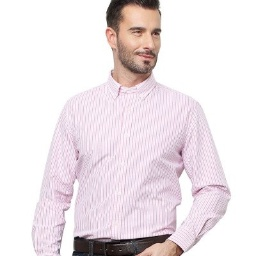face: (103, 1, 166, 78)
